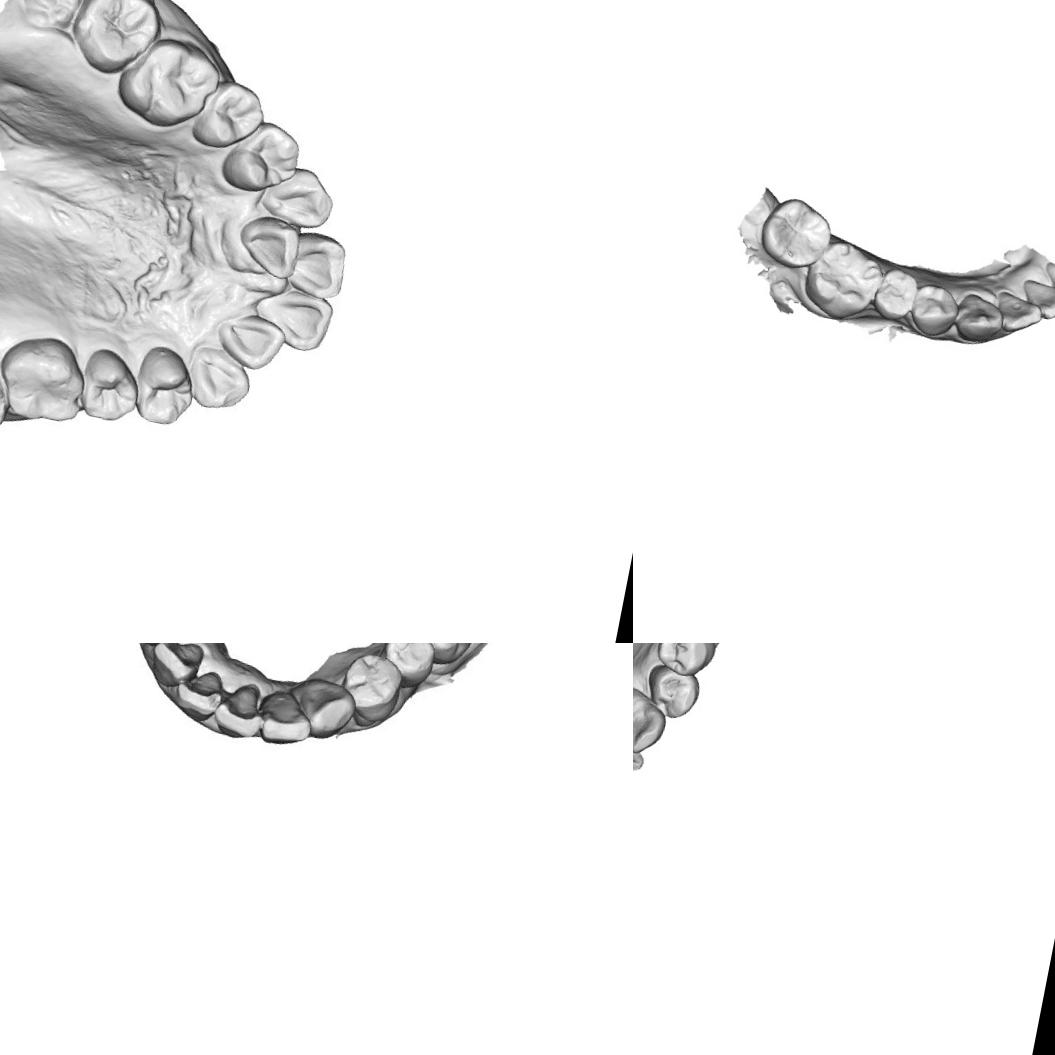canine: (258, 159, 337, 240), (184, 342, 256, 413), (295, 675, 357, 743), (951, 288, 1007, 348), (633, 683, 671, 756)
incisor: (234, 208, 307, 289), (252, 279, 336, 349), (211, 306, 288, 371), (289, 227, 352, 296), (214, 673, 270, 743), (169, 664, 228, 724), (259, 684, 312, 746), (145, 643, 206, 693), (990, 288, 1044, 339), (1013, 276, 1055, 324), (633, 709, 653, 777), (1038, 261, 1055, 299)
molar: (120, 32, 216, 132), (0, 328, 90, 425), (796, 232, 886, 327), (64, 0, 164, 79), (753, 191, 838, 275), (12, 0, 85, 43), (412, 643, 487, 663)
premolar: (188, 72, 266, 161), (225, 117, 303, 198), (333, 648, 403, 727), (72, 347, 146, 421), (132, 344, 196, 427), (639, 660, 704, 724), (907, 279, 963, 341), (868, 262, 923, 325), (377, 643, 439, 688), (650, 643, 720, 679)
